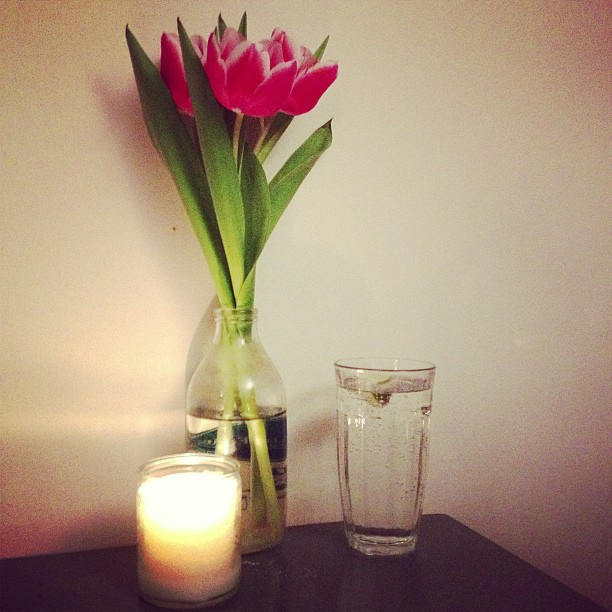glass of water: (329, 356, 431, 559)
